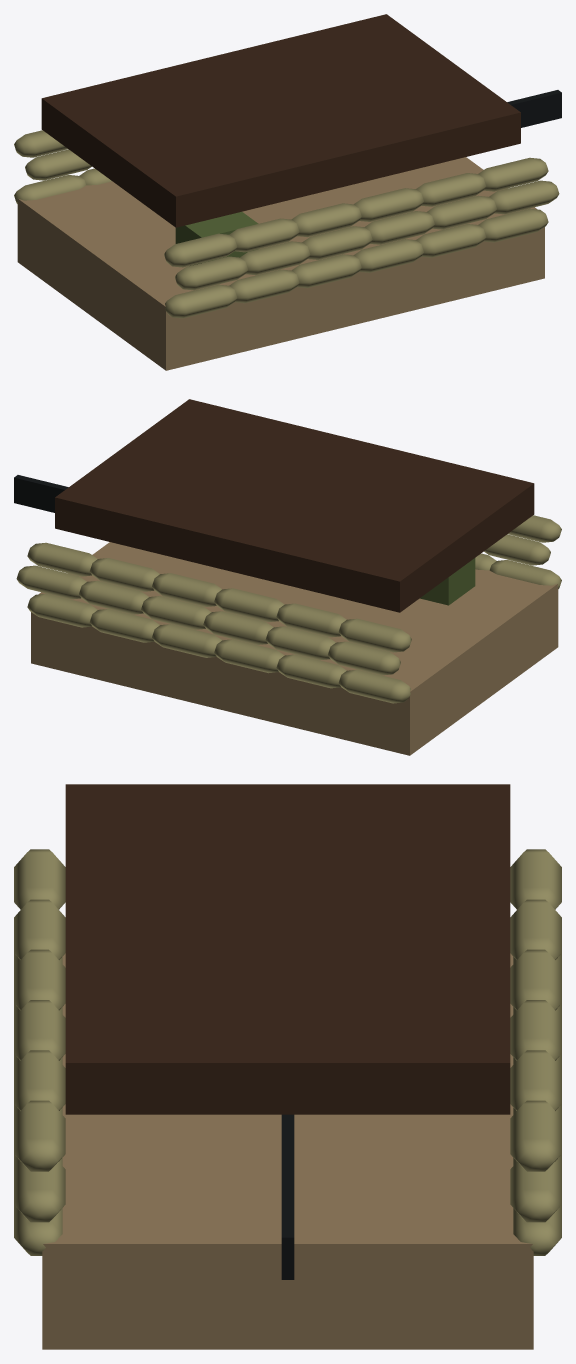
The model's file is firebase-sandbag-bunker.glb.
3 renders of one model, top to bottom at view 1: azimuth 30°, elevation 25°; view 2: azimuth 150°, elevation 25°; view 3: azimuth 270°, elevation 25°, orthographic. The views are drawn at different scales.
Visible parts, largest first — view 1: timberRoof, earthBerm, sandbagFront3_1, sandbagFront2_1, sandbagFront1_1, sandbagFront1_6, sandbagFront2_2, sandbagFront2_4, sandbagFront3_6, sandbagFront1_3, sandbagFront1_4, sandbagFront1_5 (+13 smaller); view 2: timberRoof, earthBerm, sandbagRear3_1, sandbagRear2_1, sandbagRear1_1, sandbagRear1_6, sandbagRear2_2, sandbagRear2_4, sandbagRear3_6, sandbagRear1_3, sandbagRear1_4, sandbagRear1_5 (+13 smaller); view 3: timberRoof, earthBerm, sandbagFront3_6, sandbagRear3_6, sandbagFront2_6, sandbagRear2_6, sandbagFront3_2, sandbagRear3_2, sandbagFront3_1, sandbagRear3_1, sandbagFront3_3, sandbagRear3_3 (+7 smaller).
Boxes of the visible parts, bbox=[...] form: timberRoof: bbox=[41, 14, 520, 227]; earthBerm: bbox=[17, 157, 544, 370]; sandbagFront3_1: bbox=[164, 233, 237, 267]; sandbagFront2_1: bbox=[175, 256, 247, 290]; sandbagFront1_1: bbox=[165, 284, 237, 318]; sandbagFront1_6: bbox=[478, 208, 548, 242]; sandbagFront2_2: bbox=[240, 241, 310, 275]; sandbagFront2_4: bbox=[364, 211, 434, 244]; sandbagFront3_6: bbox=[478, 157, 548, 191]; sandbagFront1_3: bbox=[291, 254, 361, 288]; sandbagFront1_4: bbox=[353, 239, 423, 272]; sandbagFront1_5: bbox=[416, 224, 486, 257]; timberRoof: bbox=[55, 399, 534, 612]; earthBerm: bbox=[31, 542, 558, 755]; sandbagRear3_1: bbox=[338, 618, 411, 652]; sandbagRear2_1: bbox=[328, 641, 400, 675]; sandbagRear1_1: bbox=[338, 669, 410, 703]; sandbagRear1_6: bbox=[27, 593, 97, 627]; sandbagRear2_2: bbox=[265, 626, 335, 660]; sandbagRear2_4: bbox=[141, 596, 211, 629]; sandbagRear3_6: bbox=[27, 542, 97, 576]; sandbagRear1_3: bbox=[214, 639, 284, 673]; sandbagRear1_4: bbox=[152, 624, 222, 657]; sandbagRear1_5: bbox=[89, 609, 159, 642]; timberRoof: bbox=[65, 784, 510, 1114]; earthBerm: bbox=[42, 953, 533, 1349]; sandbagFront3_6: bbox=[14, 1100, 65, 1171]; sandbagRear3_6: bbox=[510, 1100, 561, 1171]; sandbagFront2_6: bbox=[14, 1161, 65, 1222]; sandbagRear2_6: bbox=[510, 1161, 561, 1222]; sandbagFront3_2: bbox=[14, 899, 65, 959]; sandbagRear3_2: bbox=[510, 899, 561, 959]; sandbagFront3_1: bbox=[14, 849, 65, 909]; sandbagRear3_1: bbox=[510, 849, 561, 909]; sandbagFront3_3: bbox=[14, 949, 65, 1009]; sandbagRear3_3: bbox=[510, 949, 561, 1009].
Size of the model in its own units: 3.47 by 1.16 by 2.12.
